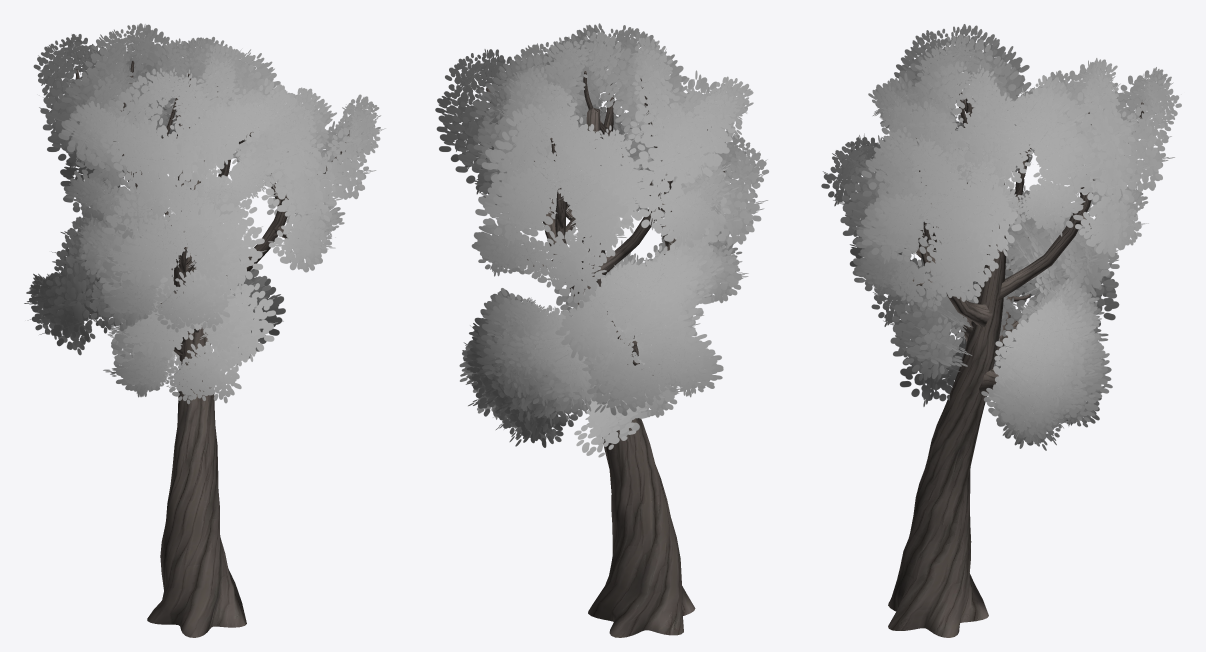
The model's file is twisted-5.glb.
3 views of the same model, side by side, from view 1: azimuth 30°, elevation 25°; view 2: azimuth 150°, elevation 25°; view 3: azimuth 270°, elevation 25° (orthographic). The views are drawn at different scales.
Parts seen in each view (by area): view 1: tree_042; view 2: tree_042; view 3: tree_042.
Boxes of the visible parts, box(x1,y1,x2,y2) form: tree_042: box(24, 23, 385, 637); tree_042: box(435, 23, 769, 637); tree_042: box(821, 24, 1181, 637).
Bounding box in the file's own units: 9.5 × 15.66 × 9.39.
Materials: 2 (2 with a texture image).
